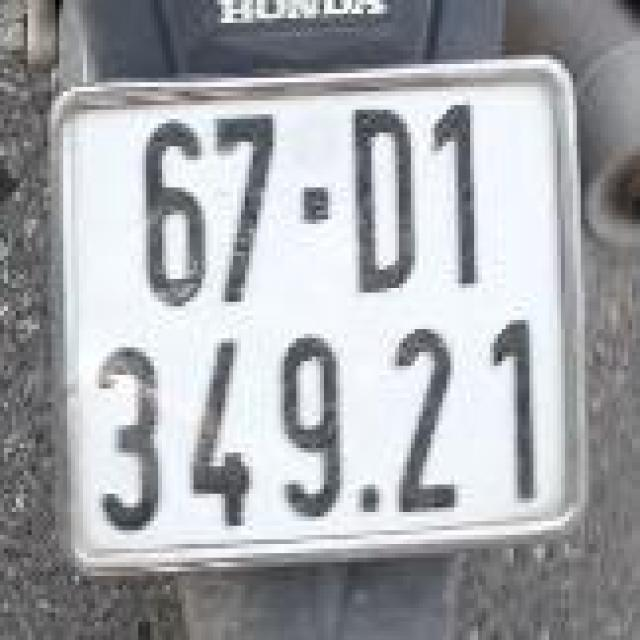1: (476, 306, 547, 517), (428, 94, 492, 290)
2: (387, 318, 466, 528)
3: (91, 332, 182, 556)
4: (184, 329, 270, 530)
6: (121, 103, 227, 318)
7: (212, 105, 278, 320)
9: (280, 318, 360, 528)
D: (344, 94, 426, 308)
